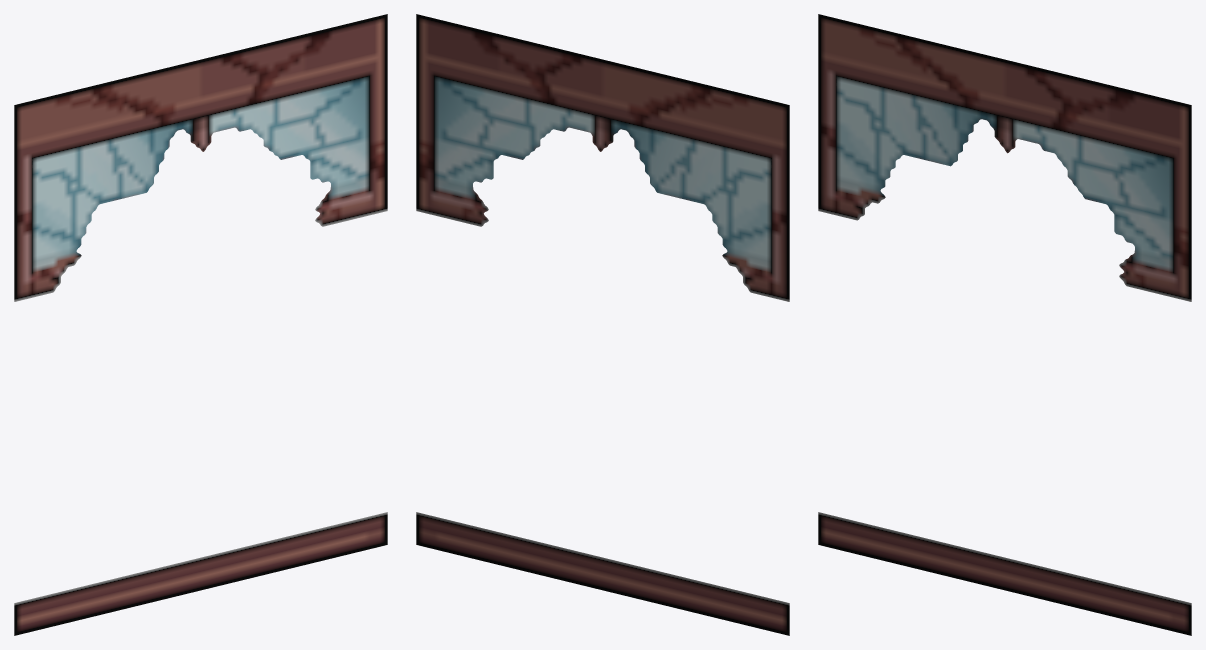
The model's file is Door_Broken2.fbx.
3 renders of one model, left to right at view 1: azimuth 30°, elevation 25°; view 2: azimuth 150°, elevation 25°; view 3: azimuth 330°, elevation 25°, orthographic.
Visible parts, largest first — view 1: 3.001; view 2: 3.001; view 3: 3.001.
Boxes of the visible parts, x1,y1,x2,y2 form: 3.001: (14, 14, 387, 635); 3.001: (416, 14, 789, 635); 3.001: (818, 14, 1191, 635).
Bounding box in the file's own units: 158 × 215 × 0.
1 material, 1 textured.
